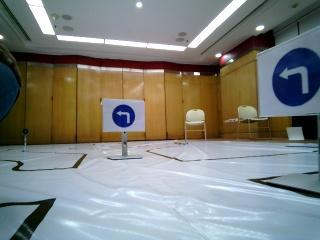left: (259, 45, 320, 108), (105, 100, 145, 131)
